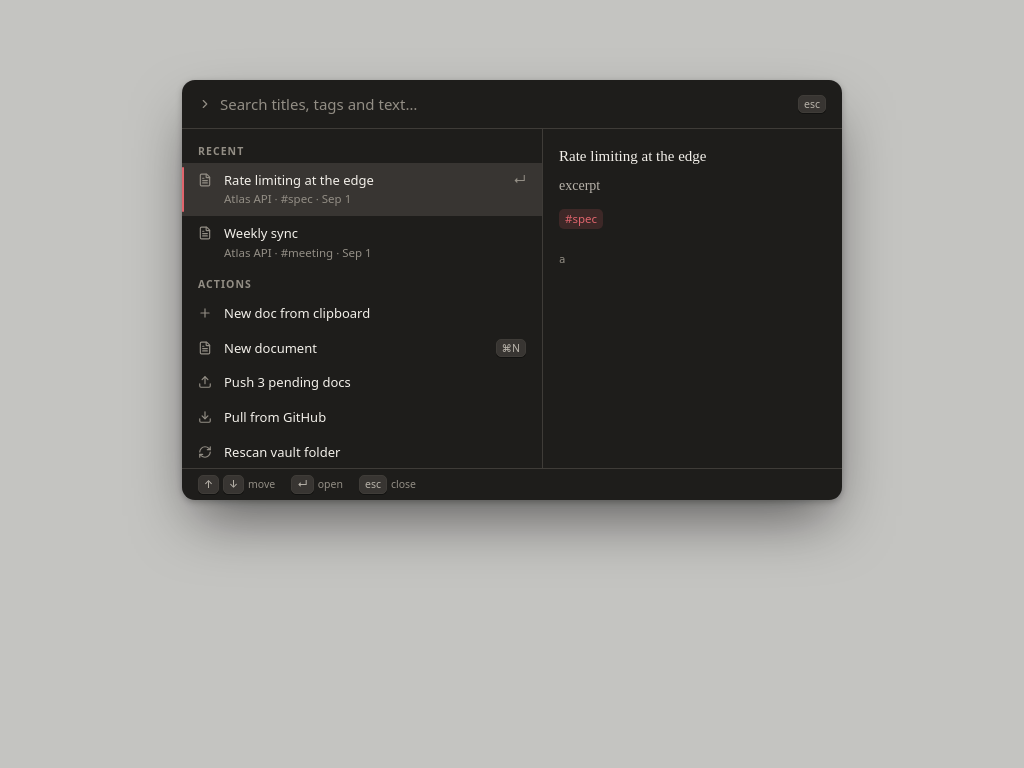
Test: CommandPalette › shows matching titles before the search answers, and only for the words typed
The image size is (1024, 768).
Type "weekly" into the dropdown labelled "Search".
click(505, 104); type("weekly")  # box [220,80,790,128]
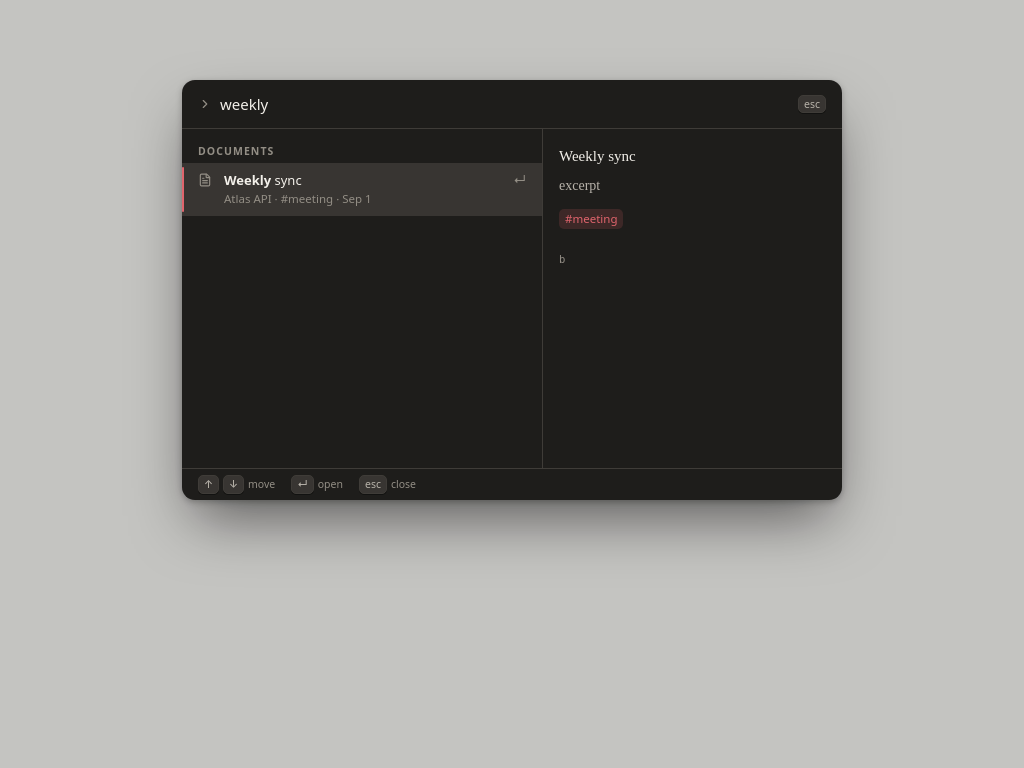
Expected: the text "Weekly sync" is shown, [559,148,636,164]
Expected: the option "Rate limiting at the edge" is gone
